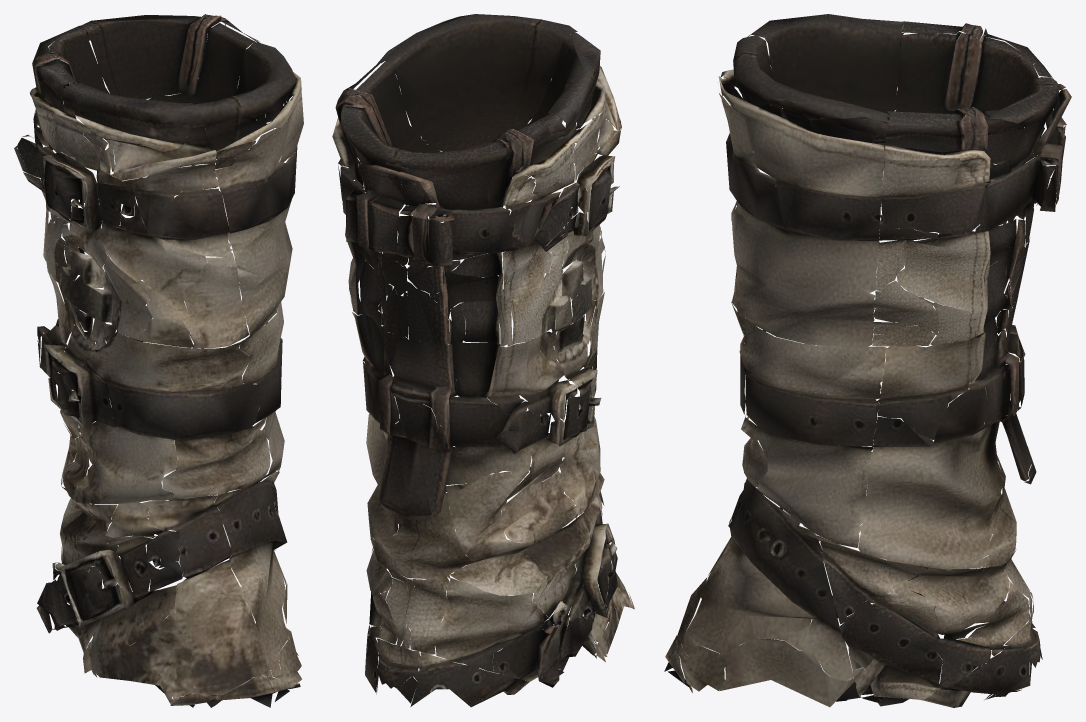
The model's file is a_ward_boots_shaft.glb.
3 renders of one model, left to right at view 1: azimuth 30°, elevation 25°; view 2: azimuth 150°, elevation 25°; view 3: azimuth 270°, elevation 25°, orthographic. The views are drawn at different scales.
Parts seen in each view (by area): view 1: tripo_node_66716165-d177-4658-8bea-9631f10389fa; view 2: tripo_node_66716165-d177-4658-8bea-9631f10389fa; view 3: tripo_node_66716165-d177-4658-8bea-9631f10389fa.
Boxes of the visible parts, <box> form: tripo_node_66716165-d177-4658-8bea-9631f10389fa: <box>14,14,303,707</box>; tripo_node_66716165-d177-4658-8bea-9631f10389fa: <box>332,14,634,707</box>; tripo_node_66716165-d177-4658-8bea-9631f10389fa: <box>664,14,1071,707</box>.
Size of the model in its own units: 0.1552 by 0.3698 by 0.2202.
1 material, 1 textured.
